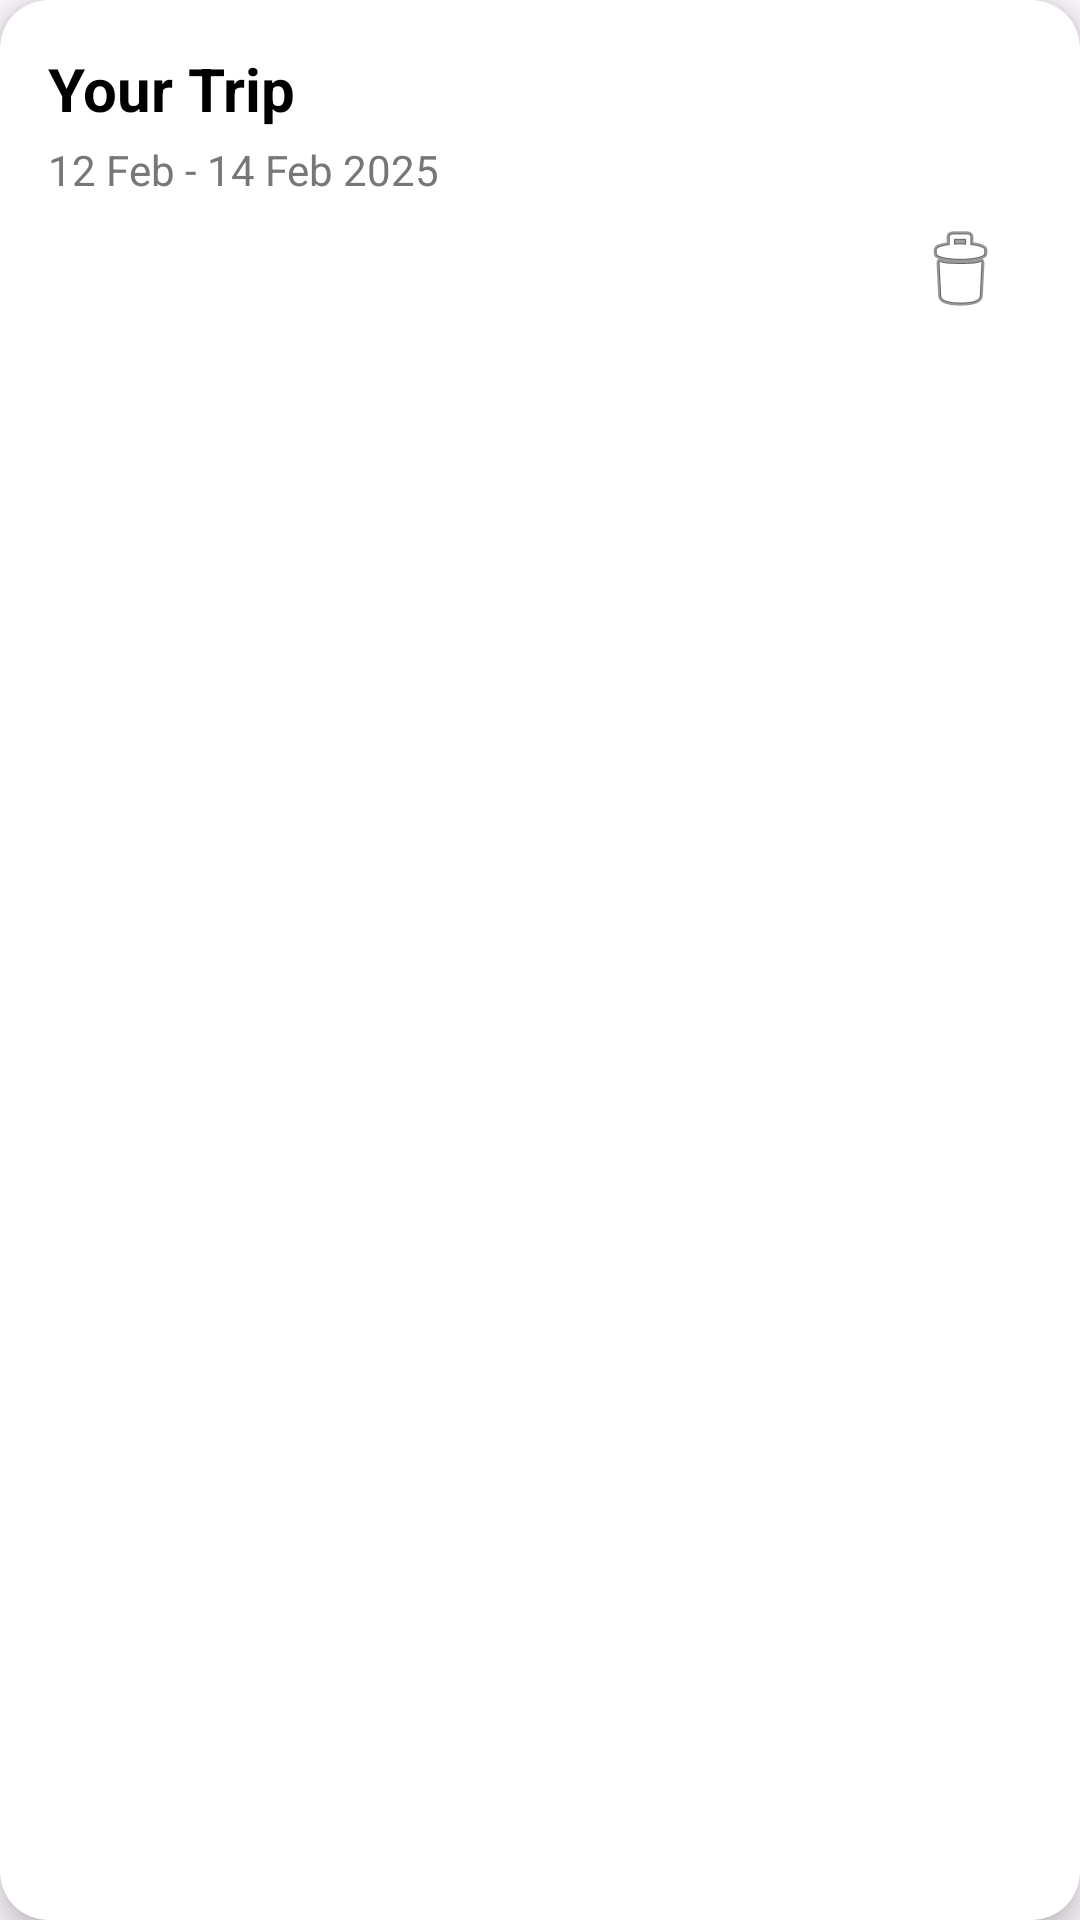

Where icons sit on this 1080 x 1920 app screen, as rect(x1, y1, x2, y2):
Delete item: rect(933, 231, 988, 306)
